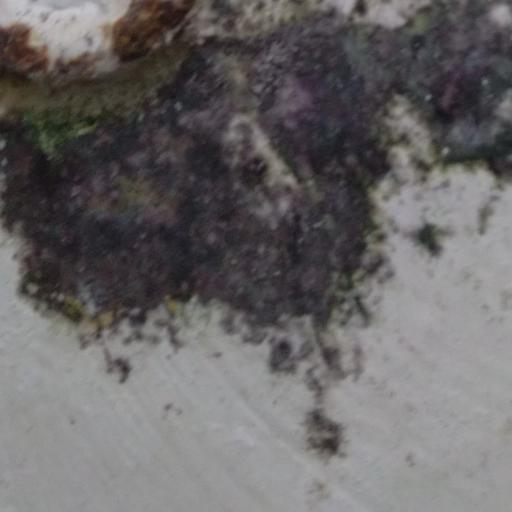algae: (0, 0, 509, 392)
